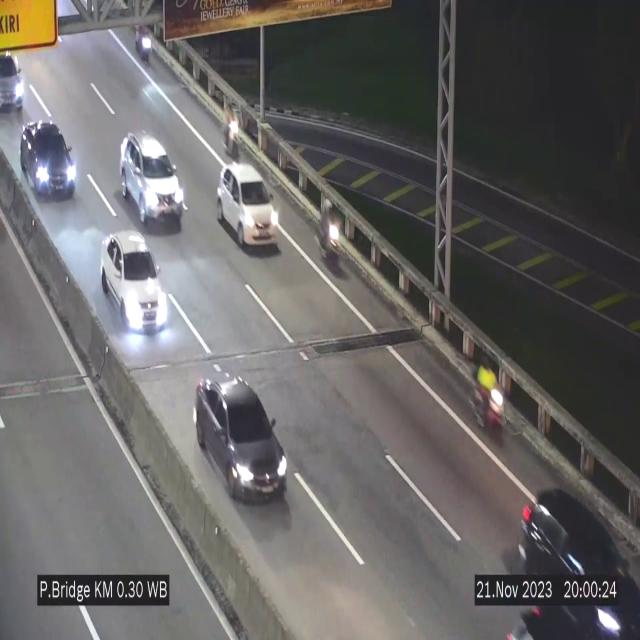Car: (513, 479, 640, 635), (195, 376, 288, 499), (100, 232, 166, 332), (120, 132, 184, 228), (216, 163, 278, 249), (21, 119, 75, 203), (0, 50, 32, 128)
Motorcycle: (470, 349, 506, 446), (318, 194, 344, 274), (220, 95, 242, 157), (134, 23, 156, 69)
